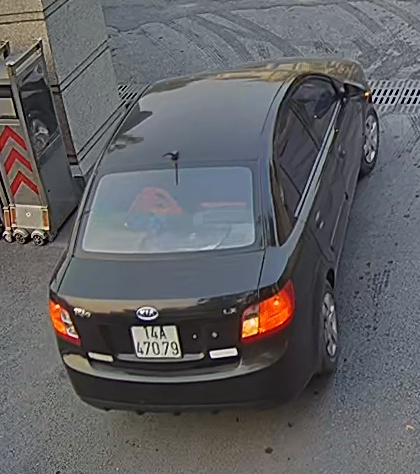vehicle plate: (128, 320, 186, 359)
